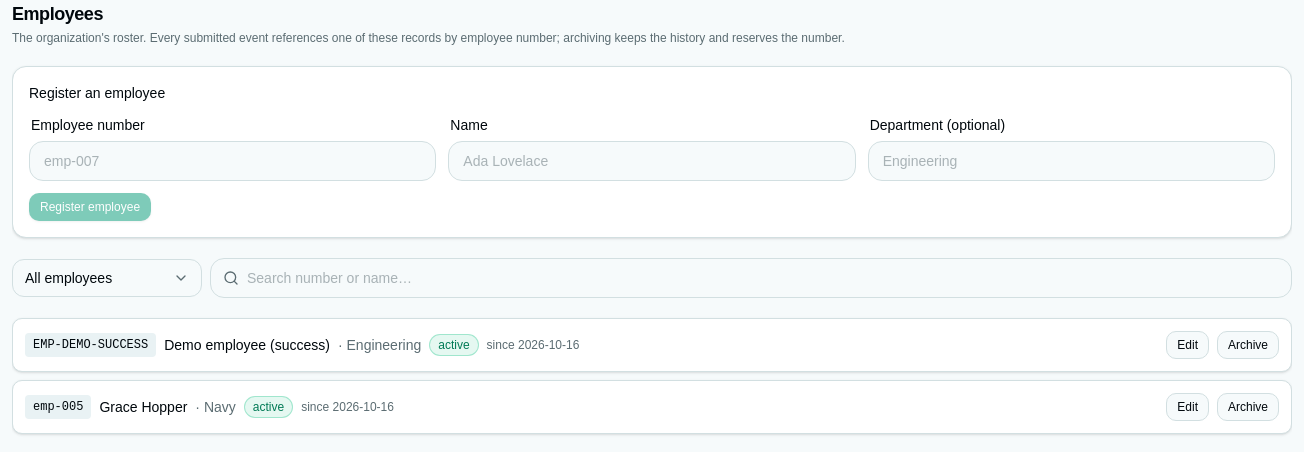
Test: EmployeesView › archives with confirmation and reflects the archived state fetched from the server
Check: the text "Grace Hopper" is shown, box x1=99 y1=397 x2=187 y2=417
Click the button with test id "employee-archive-row-2" at (1248, 407), box x1=1217 y1=393 x2=1279 y2=421
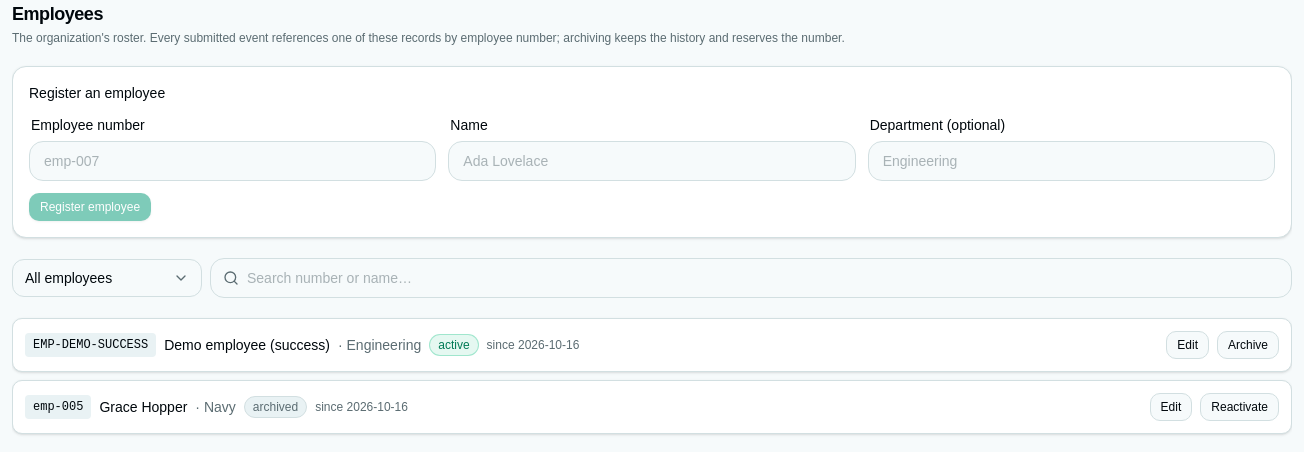
Check: the list item with test id "employee-row-emp-005" is shown, box x1=12 y1=380 x2=1292 y2=434
Check: the list item with test id "employee-row-emp-005" shows "archived", box x1=253 y1=400 x2=298 y2=414
